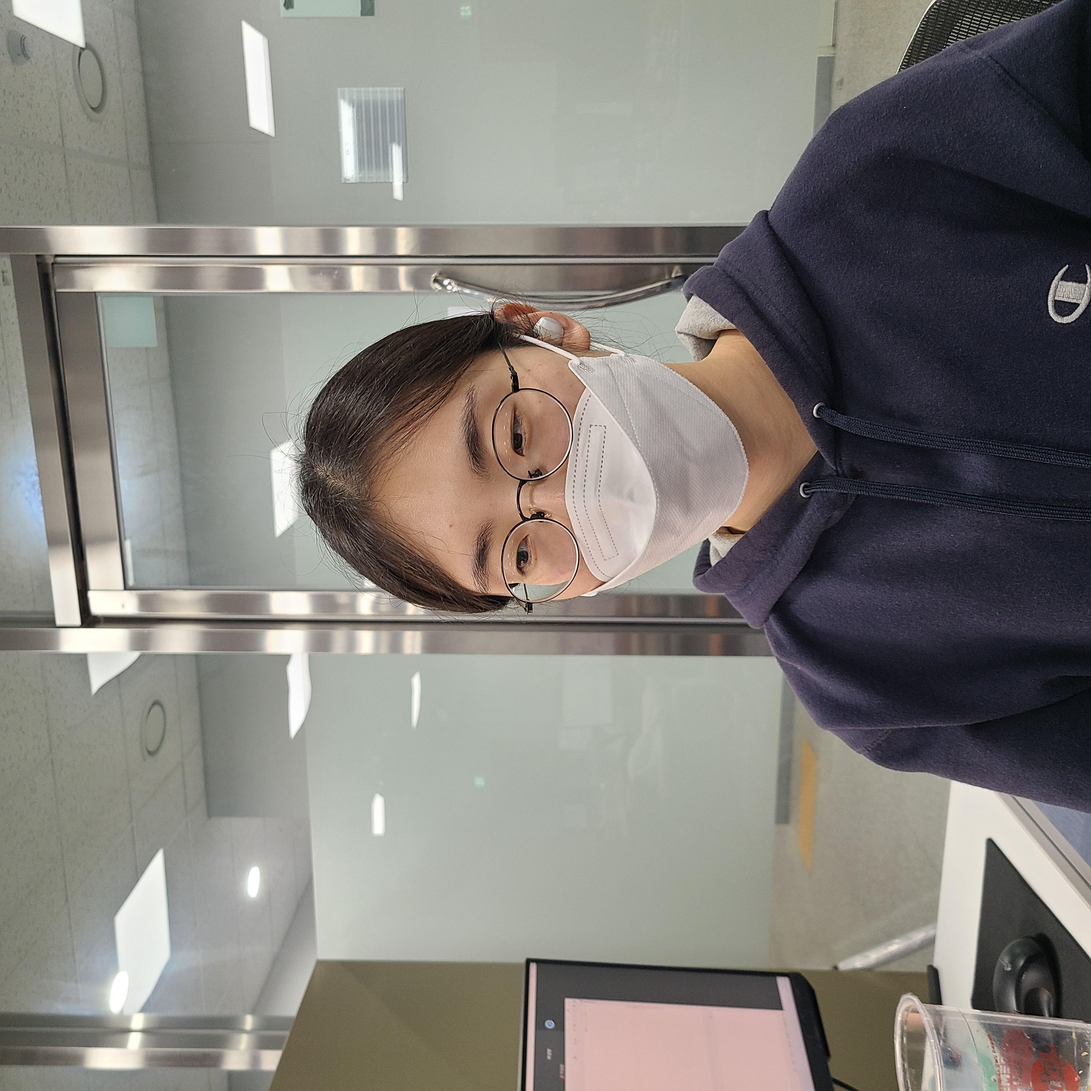earphone: (744, 525, 782, 571)
